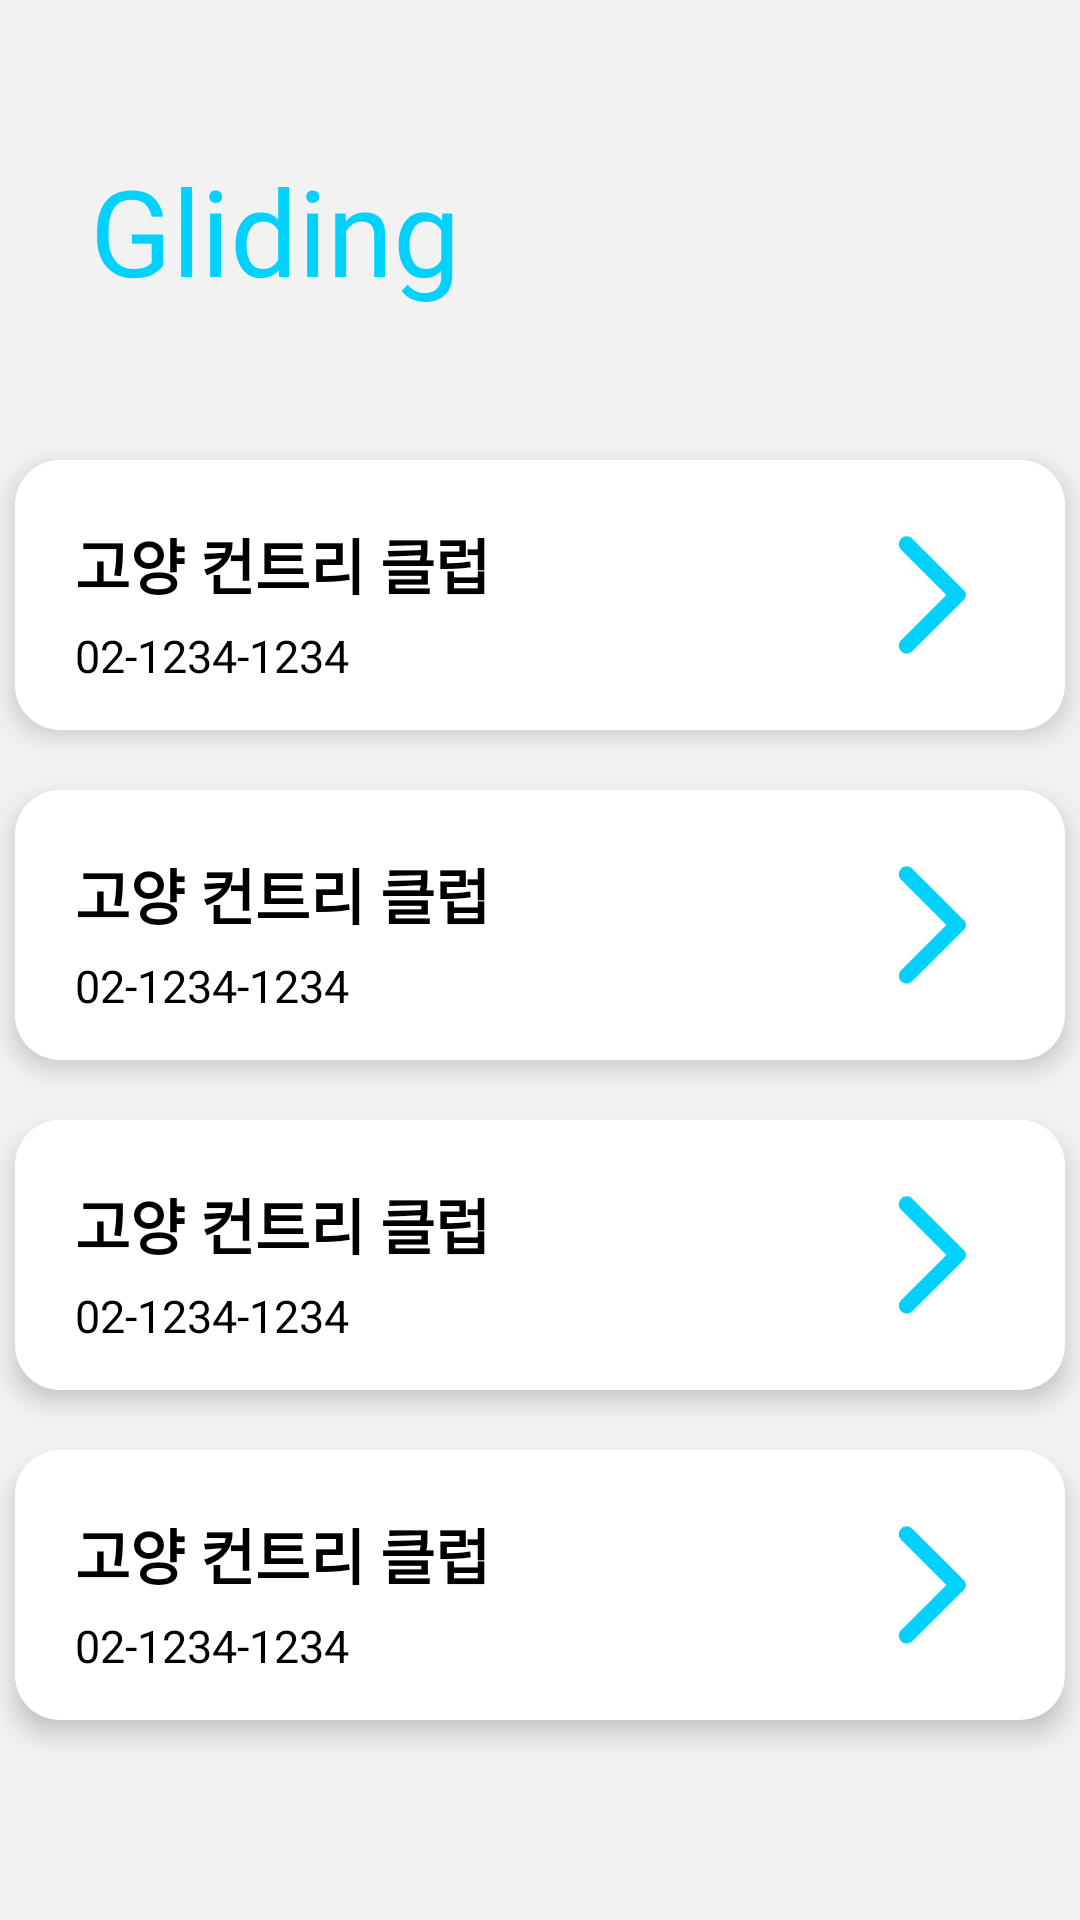

Where to tap for icons on this 1080px×1920px app screen, as point (x, y):
arrow: point (932, 595), point (932, 925), point (932, 1255), point (932, 1585)
